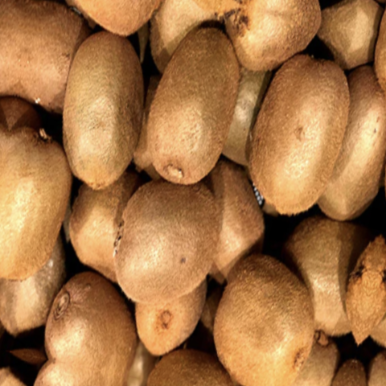kiwi: (231, 35, 364, 228), (81, 158, 233, 322), (30, 27, 170, 205), (131, 9, 254, 200), (196, 236, 338, 386), (0, 129, 89, 297)
